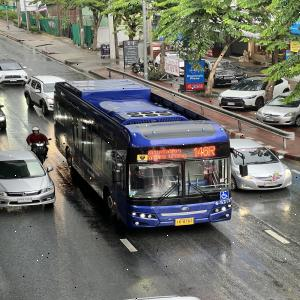Bus Line Number: (192, 145, 217, 157)
Bus Side Number: (215, 196, 232, 207)
Destination Sign: (147, 145, 187, 161)
TSB-Bus: (52, 80, 232, 230)
